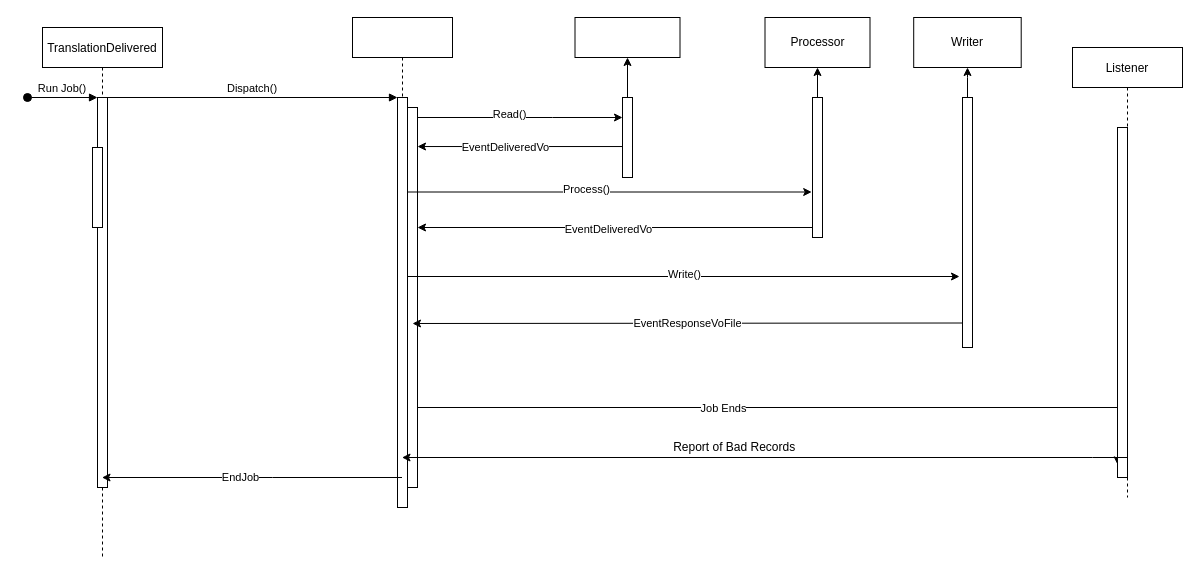
This 1200x575 diagram has some shape labels left out. The shapes that lost their labels are listed below. From the top down, each one's box as (x1, y1, x2, y2) in pixels, then its label:
(574, 16, 680, 58): Reader
(352, 16, 452, 508): Step
